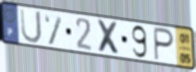2: (75, 17, 93, 53)
7: (44, 11, 64, 47)
9: (130, 24, 148, 59)
P: (153, 26, 176, 63)
U: (19, 7, 44, 45)
X: (95, 18, 122, 57)
